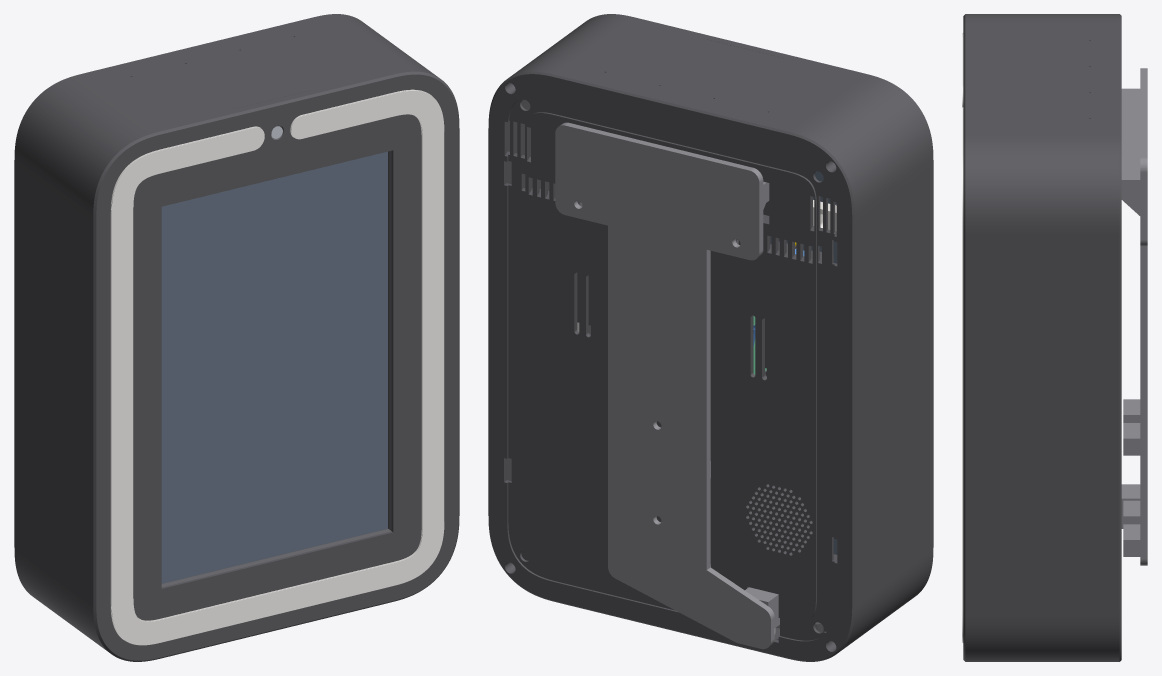
The model's file is halo-gen2-v2_3d.glb.
3 views of the same model, side by side, from view 1: azimuth 30°, elevation 25°; view 2: azimuth 150°, elevation 25°; view 3: azimuth 270°, elevation 25° (orthographic). The views are drawn at different scales.
Visible parts, largest first — view 1: skaerm, front, skal, lysring; view 2: skal, vaegbeslag, front; view 3: skal, vaegbeslag, front, lysring.
Boxes of the visible parts, x1,y1,x2,y2 form: skaerm: [161, 151, 387, 583]; front: [88, 68, 459, 661]; skal: [14, 14, 434, 648]; lysring: [110, 89, 444, 645]; skal: [488, 17, 928, 661]; vaegbeslag: [555, 122, 779, 649]; front: [583, 14, 933, 597]; skal: [974, 14, 1121, 661]; vaegbeslag: [1121, 68, 1147, 565]; front: [963, 14, 974, 661]; lysring: [962, 33, 963, 642].
Size of the model in its own units: 222 by 306 by 99.5.
